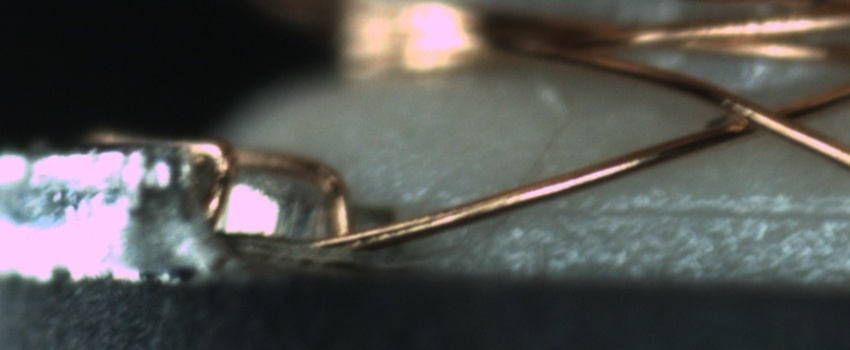CL: (699, 87, 828, 143)
DL: (539, 183, 850, 241)
TE: (89, 126, 369, 245)
